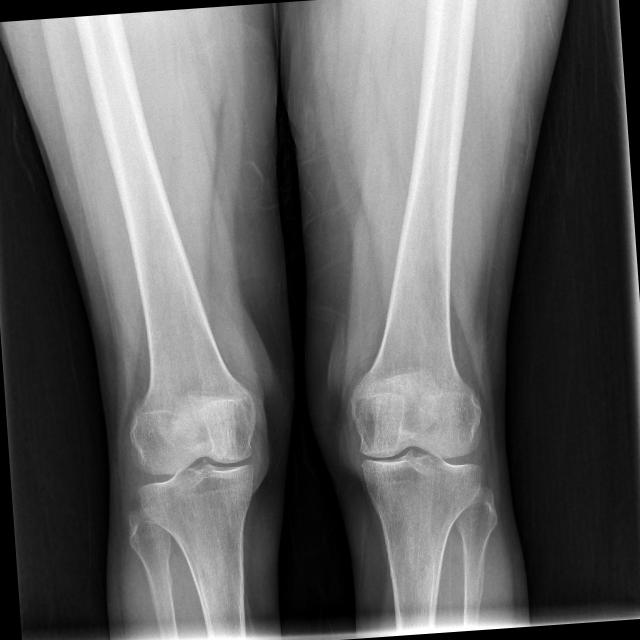Knee: (127, 392, 268, 542), (350, 382, 490, 518)
